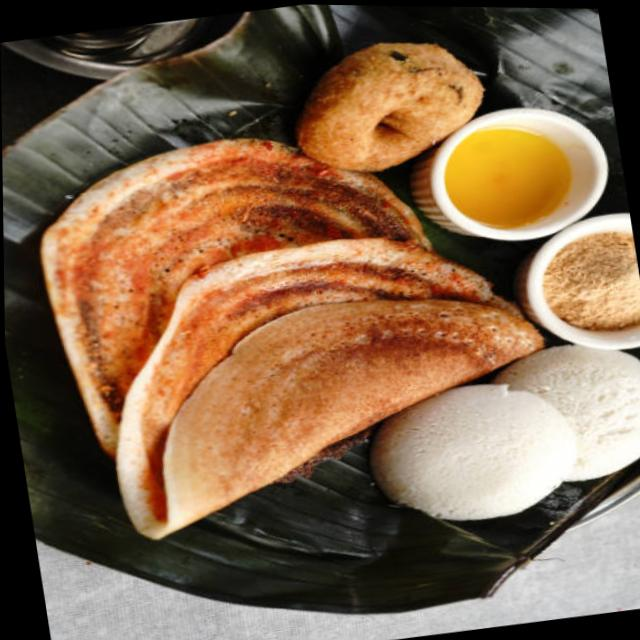DOSA: (40, 139, 544, 535)
IDLI: (371, 342, 640, 520)
VADA: (303, 44, 486, 173)
